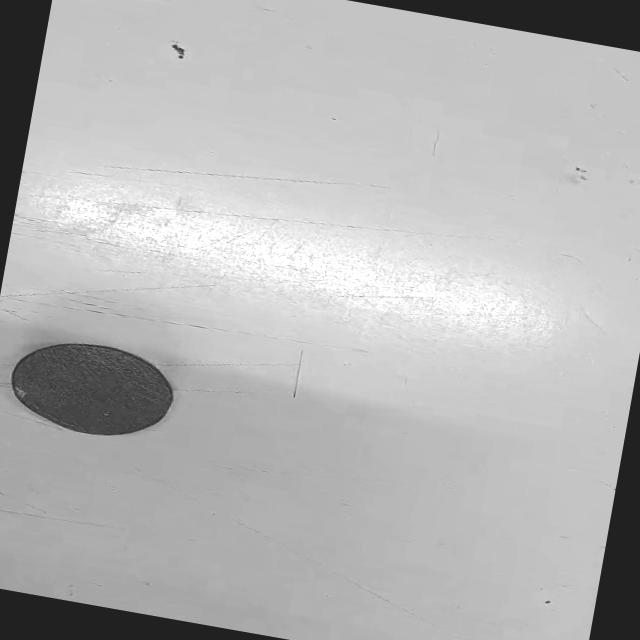rcircle: (10, 343, 173, 435)
